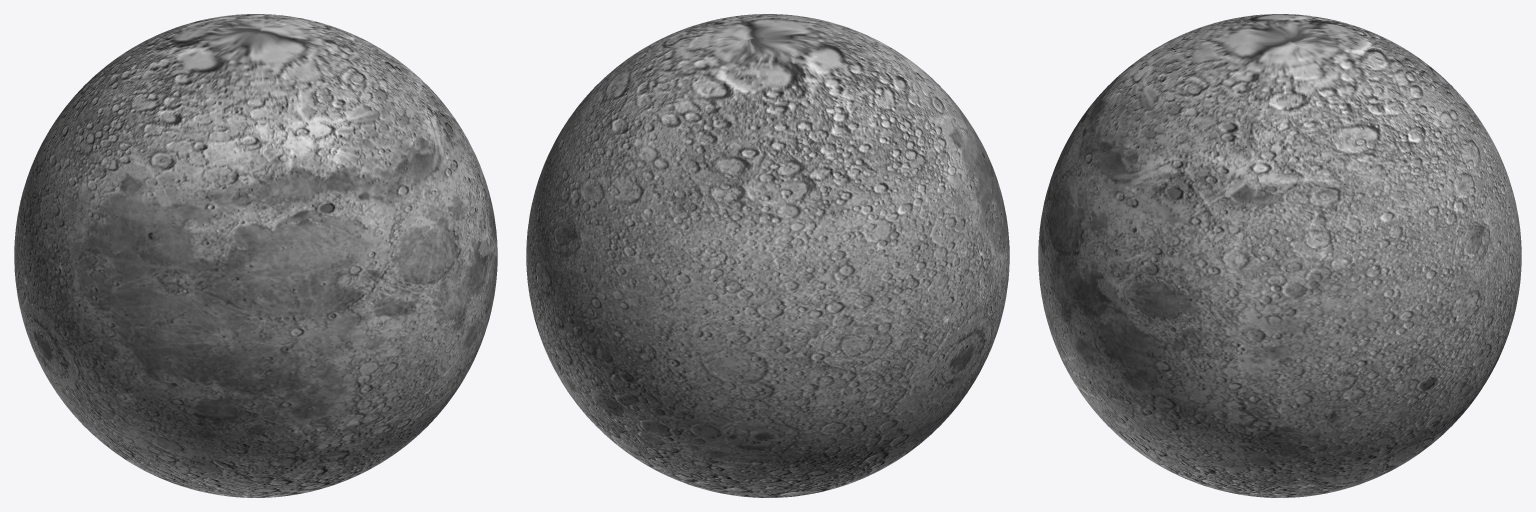
The model's file is moon.obj.
The picture shows the model from 3 angles, left to right: view 1: azimuth 30°, elevation 25°; view 2: azimuth 150°, elevation 25°; view 3: azimuth 270°, elevation 25°; orthographic projection.
Parts seen in each view (by area): view 1: Sphere; view 2: Sphere; view 3: Sphere.
Boxes of the visible parts, bbox=[...] form: Sphere: bbox=[14, 14, 497, 497]; Sphere: bbox=[526, 14, 1009, 497]; Sphere: bbox=[1038, 14, 1521, 497].
Bounding box in the file's own units: 2 × 2 × 2.
1 material, 1 textured.
